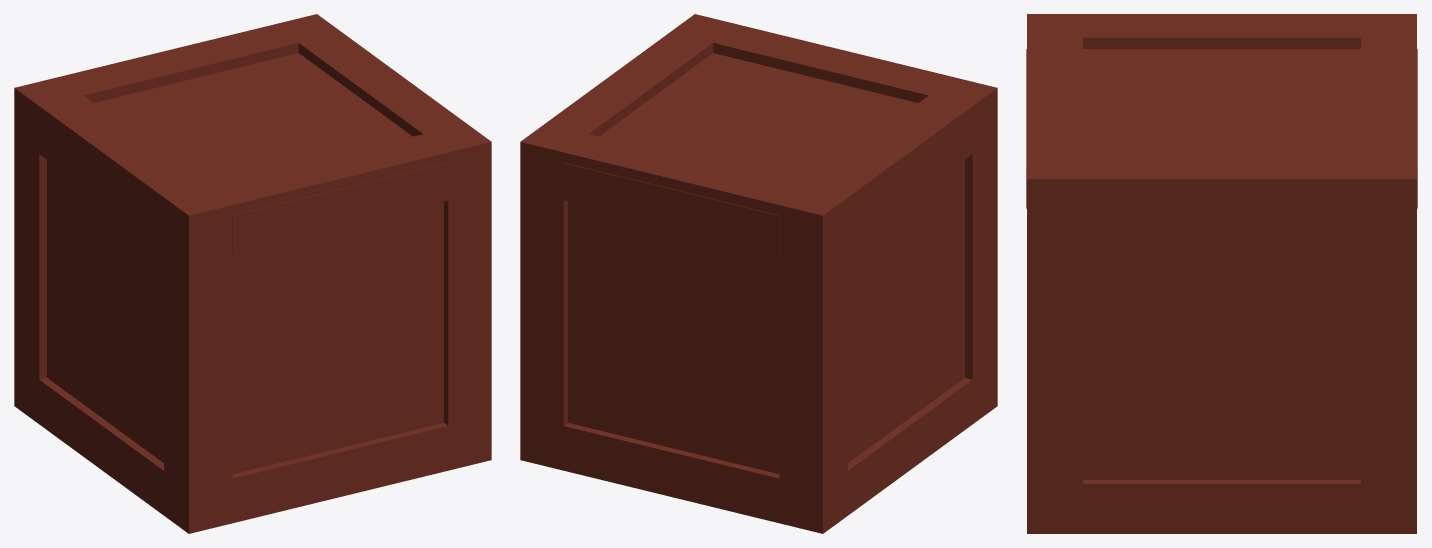
The picture shows the model from 3 angles, left to right: view 1: azimuth 30°, elevation 25°; view 2: azimuth 150°, elevation 25°; view 3: azimuth 270°, elevation 25°; orthographic projection. The views are drawn at different scales.
Parts seen in each view (by area): view 1: Cube; view 2: Cube; view 3: Cube.
Part boxes in pixels (left/top/right/bottom): Cube: left=14, top=14, right=491, bottom=533; Cube: left=520, top=14, right=997, bottom=533; Cube: left=1026, top=14, right=1417, bottom=533.
Bounding box in the file's own units: 655 × 658 × 658.
